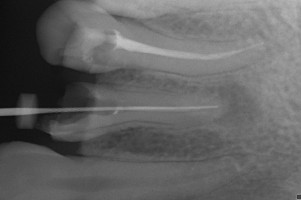Furcation Involvement: (206, 84, 263, 131)
